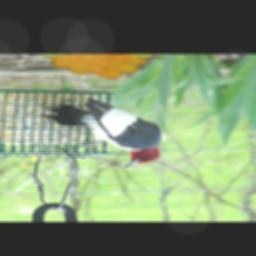Woodpecker: (39, 98, 161, 168)
